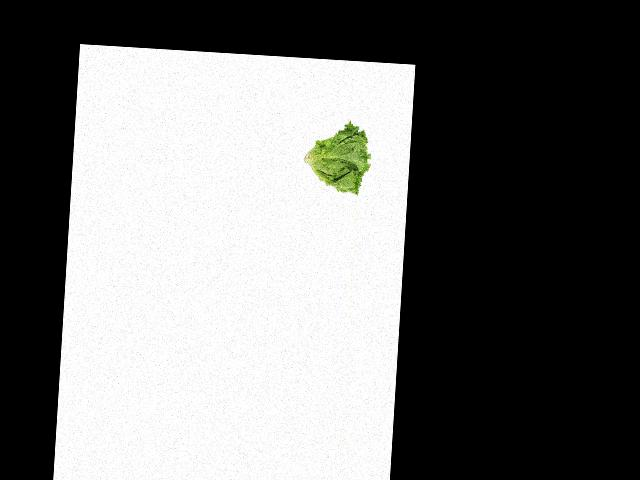lettuce: (300, 121, 376, 197)
